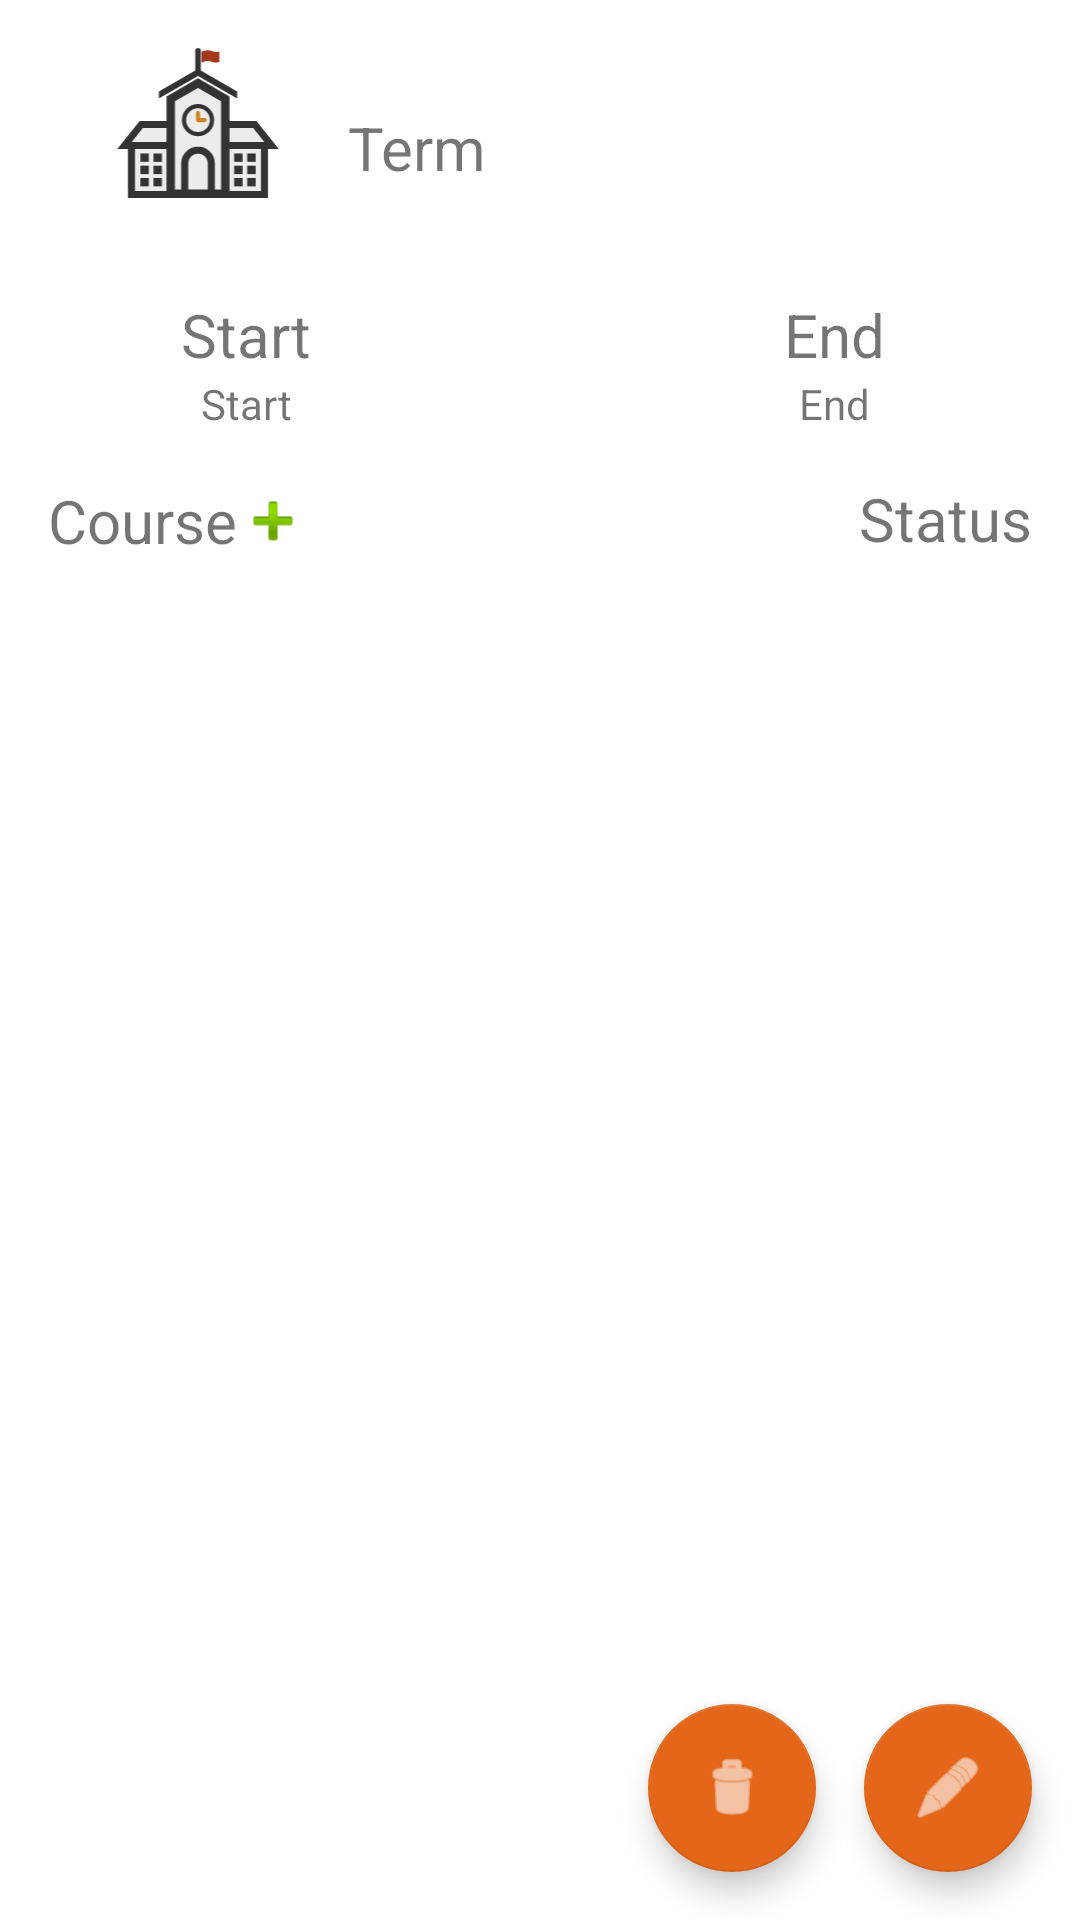

Named icons in this screenshot (1080 × 1920) and their bounding boxes, bbox(x1, y1, x2, y2):
Delete: bbox(648, 1704, 816, 1872)
Edit: bbox(864, 1704, 1032, 1872)
Insert: bbox(252, 501, 294, 541)
